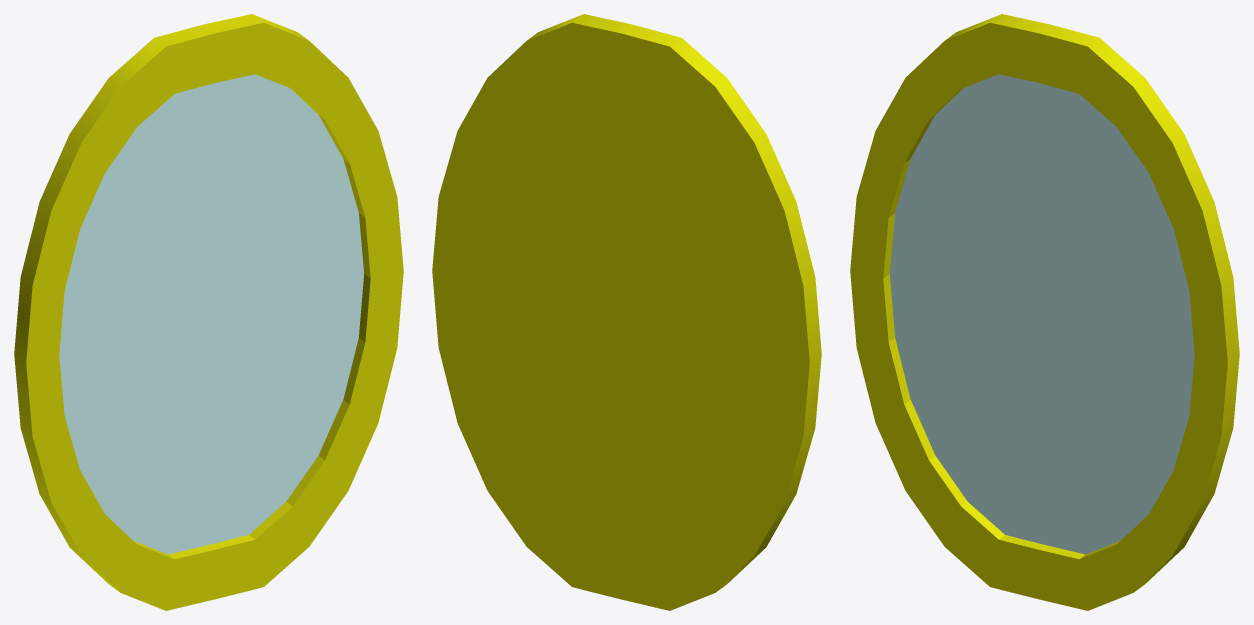
Rendered from Espejo.fbx.
3 renders of one model, left to right at view 1: azimuth 30°, elevation 25°; view 2: azimuth 150°, elevation 25°; view 3: azimuth 330°, elevation 25°, orthographic.
Parts seen in each view (by area): view 1: pCylinder1; view 2: pCylinder1; view 3: pCylinder1.
Boxes of the visible parts, x1=… form: pCylinder1: x1=14, y1=14, x2=403, y2=610; pCylinder1: x1=432, y1=14, x2=821, y2=610; pCylinder1: x1=850, y1=14, x2=1239, y2=610.
Bounding box in the file's own units: 3.12 × 4.47 × 0.1712.
